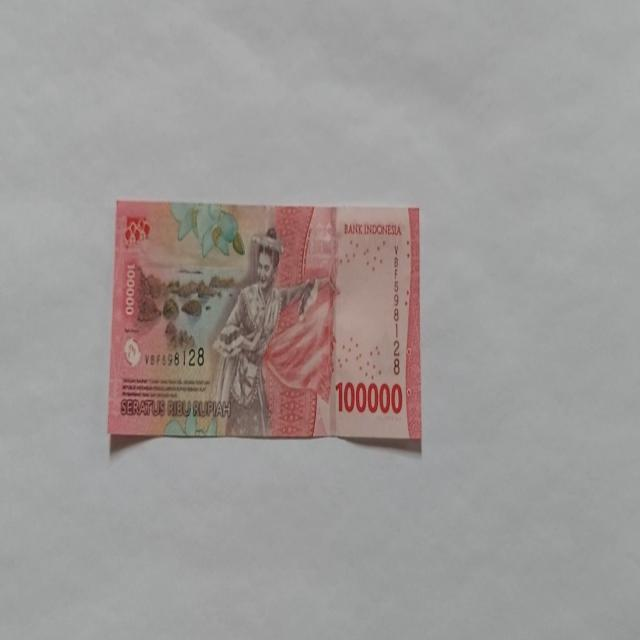seratus ribu rupiah: (106, 200, 422, 444), (208, 226, 330, 436)
